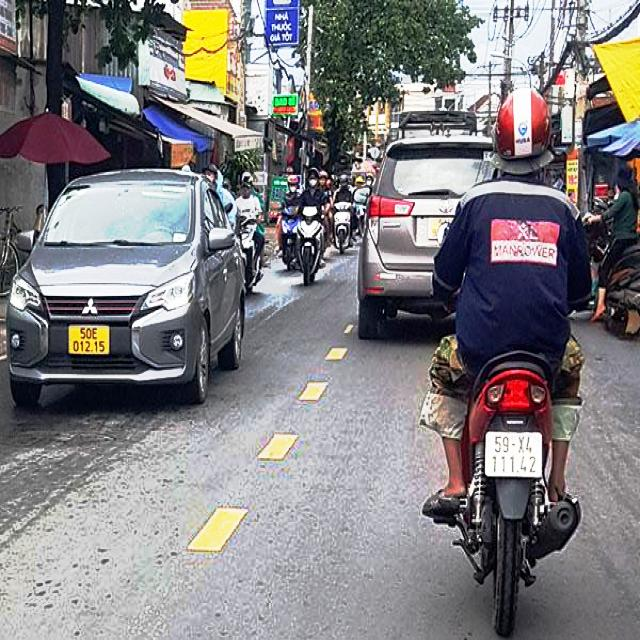license_plate: (486, 433, 549, 478), (67, 322, 110, 357)
